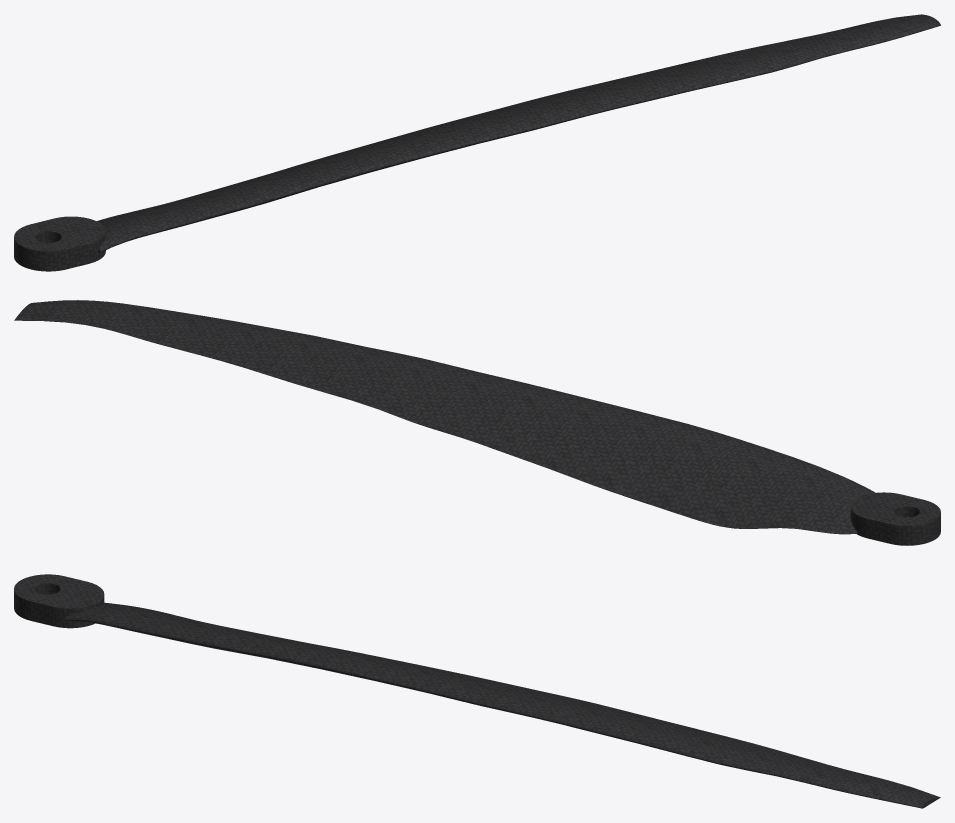
3 renders of one model, top to bottom at view 1: azimuth 30°, elevation 25°; view 2: azimuth 150°, elevation 25°; view 3: azimuth 330°, elevation 25°, orthographic.
Parts seen in each view (by area): view 1: Propela_CW_1; view 2: Propela_CW_1; view 3: Propela_CW_1.
Part boxes in pixels (x1,y1,x2,y2): Propela_CW_1: (14,14,940,271); Propela_CW_1: (14,300,940,545); Propela_CW_1: (14,574,940,808).
Size of the model in its own units: 203 by 9.59 by 22.39.
Materials: 1 (1 with a texture image).
